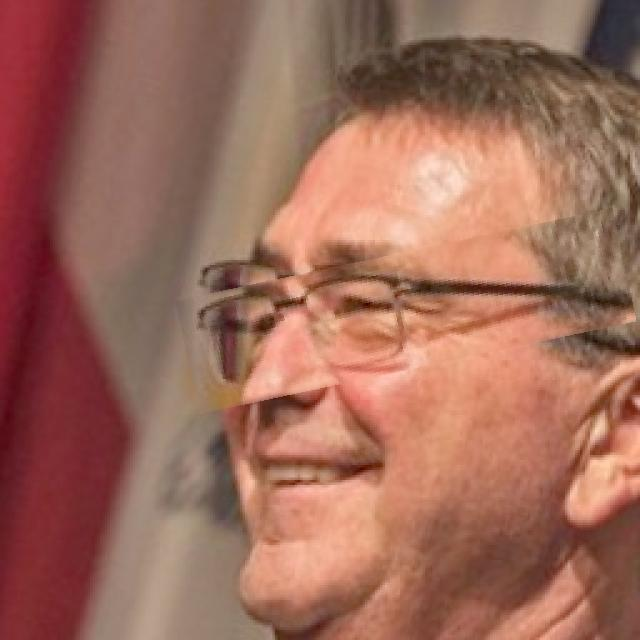glasses: (178, 230, 632, 392)
